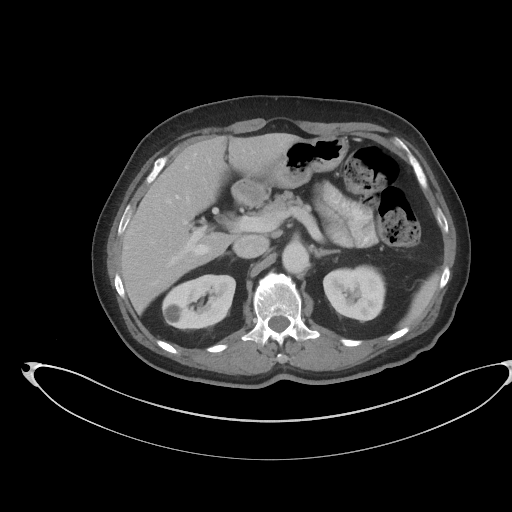Lesion: (163, 301, 182, 322)
